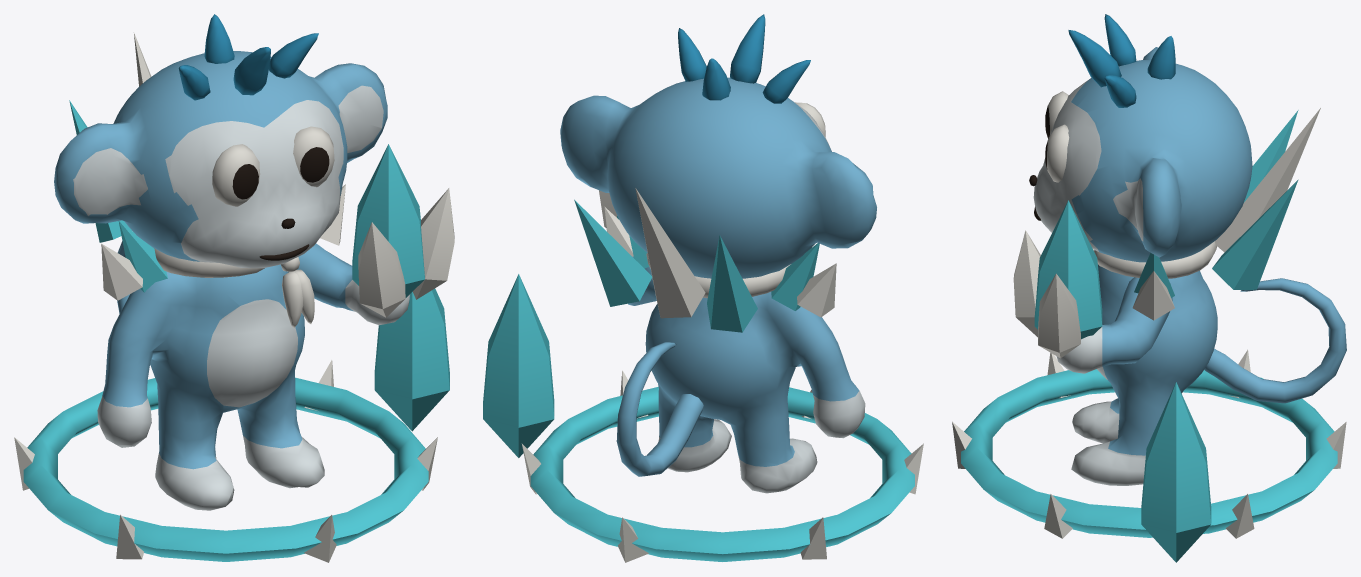
The picture shows the model from 3 angles, left to right: view 1: azimuth 30°, elevation 25°; view 2: azimuth 150°, elevation 25°; view 3: azimuth 270°, elevation 25°; orthographic projection. The views are drawn at different scales.
Parts seen in each view (by area): view 1: gelo_3_cabeca, gelo_1_corpo, gelo_0_base, gelo_4_braco; view 2: gelo_3_cabeca, gelo_1_corpo, gelo_0_base, gelo_2_cauda, gelo_4_braco; view 3: gelo_3_cabeca, gelo_0_base, gelo_1_corpo, gelo_4_braco, gelo_2_cauda.
Part boxes in pixels (x1=…): gelo_3_cabeca: x1=54, y1=14, x2=387, y2=268; gelo_1_corpo: x1=69, y1=33, x2=345, y2=510; gelo_0_base: x1=14, y1=288, x2=449, y2=562; gelo_4_braco: x1=288, y1=144, x2=454, y2=325; gelo_3_cabeca: x1=560, y1=14, x2=876, y2=278; gelo_1_corpo: x1=574, y1=188, x2=865, y2=493; gelo_0_base: x1=483, y1=274, x2=923, y2=562; gelo_2_cauda: x1=616, y1=342, x2=703, y2=476; gelo_4_braco: x1=599, y1=190, x2=656, y2=305; gelo_3_cabeca: x1=1029, y1=14, x2=1252, y2=262; gelo_0_base: x1=952, y1=349, x2=1346, y2=562; gelo_1_corpo: x1=1071, y1=108, x2=1320, y2=485; gelo_4_braco: x1=1013, y1=200, x2=1172, y2=373; gelo_2_cauda: x1=1204, y1=278, x2=1346, y2=403.
Size of the model in its own units: 0.996 by 1.09 by 0.8791.
